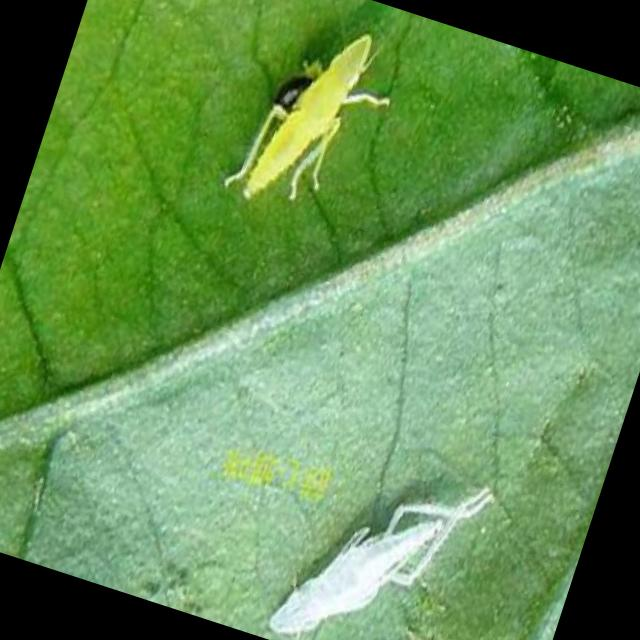green-leafhopper: (225, 0, 406, 233)
